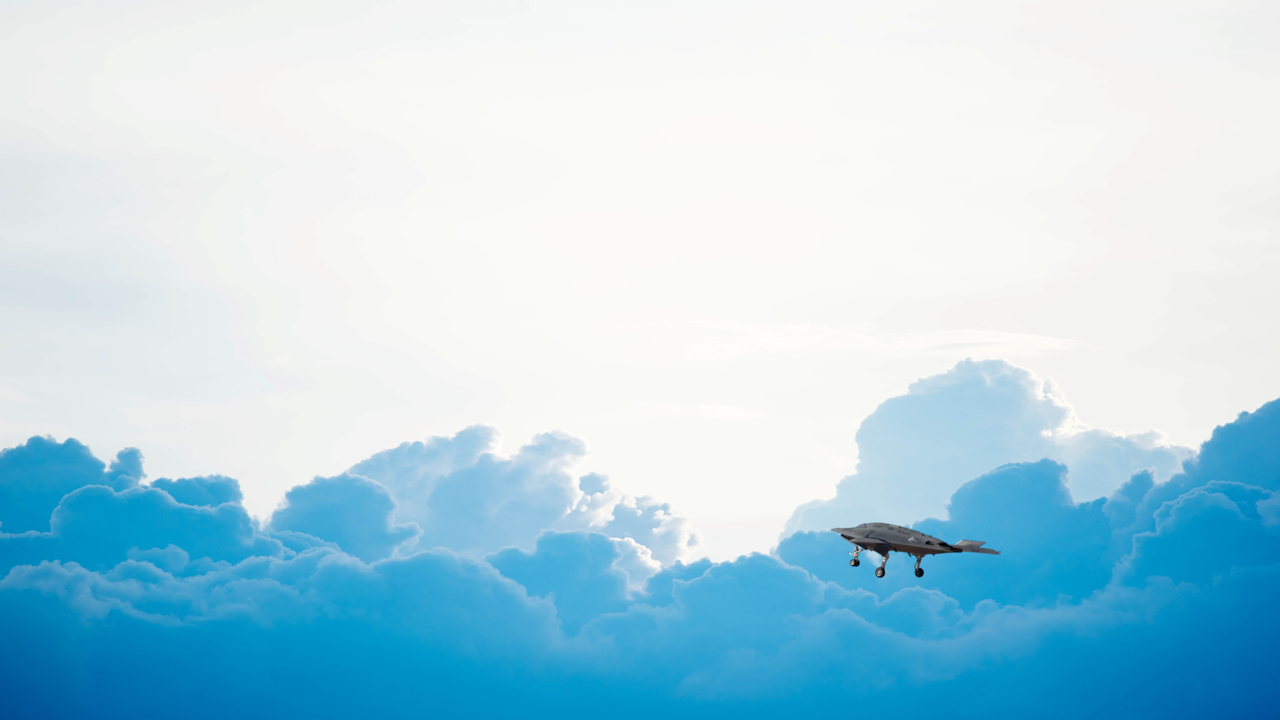military drone: (830, 522, 1001, 578)
